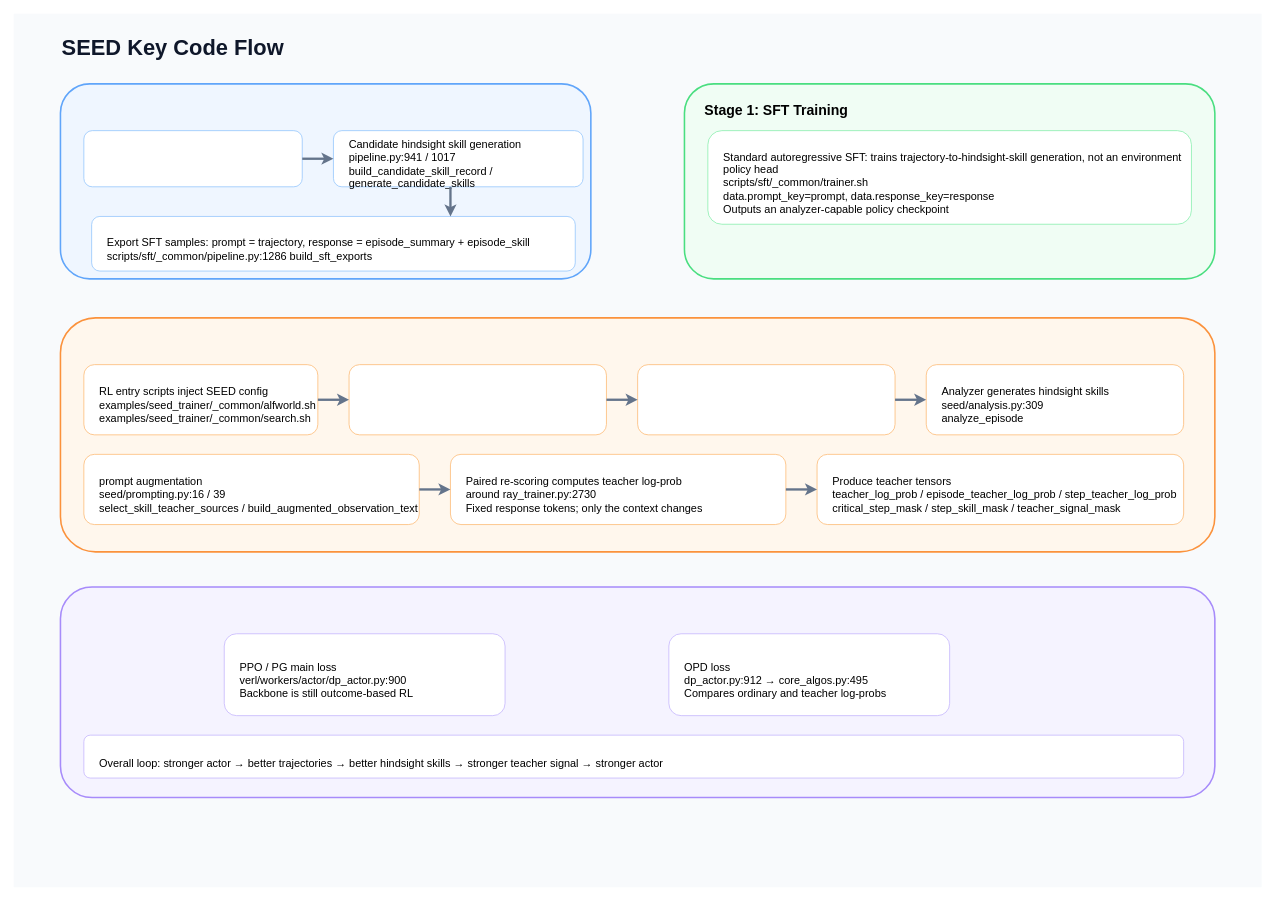
Image size: 1275x900. Some labels were removed from this diagram. Each missing label, with the box of its shape:
Actor Update and Loss Combination: (59, 586, 1215, 798)
Baseline rollout sampling scripts/sft/_common/pipeline.py:652 run_rollout_specs: (83, 130, 302, 187)
Build complete episode records ray_trainer.py:2340 _prepare_seed_teacher_signals: (637, 364, 895, 435)
Stage 1: SFT Data Construction: (59, 83, 591, 279)
Stage 2: SEED RL Main Loop: (59, 317, 1215, 552)
veRL PPO trainer backbone verl/trainer/ppo/ray_trainer.py:502 RayPPOTrainer: (348, 364, 606, 435)
